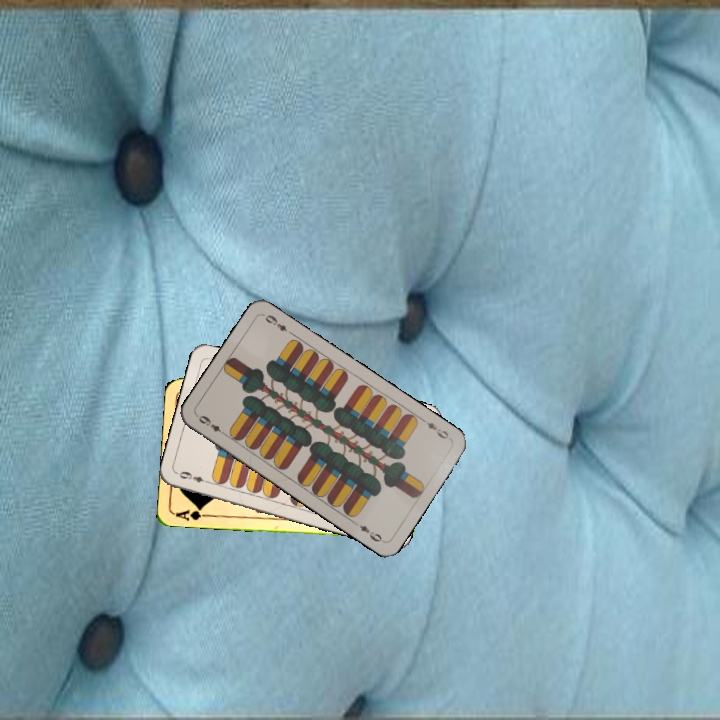E9: (194, 411, 229, 439), (418, 415, 453, 443), (174, 467, 213, 486)
GA: (171, 503, 212, 523)
